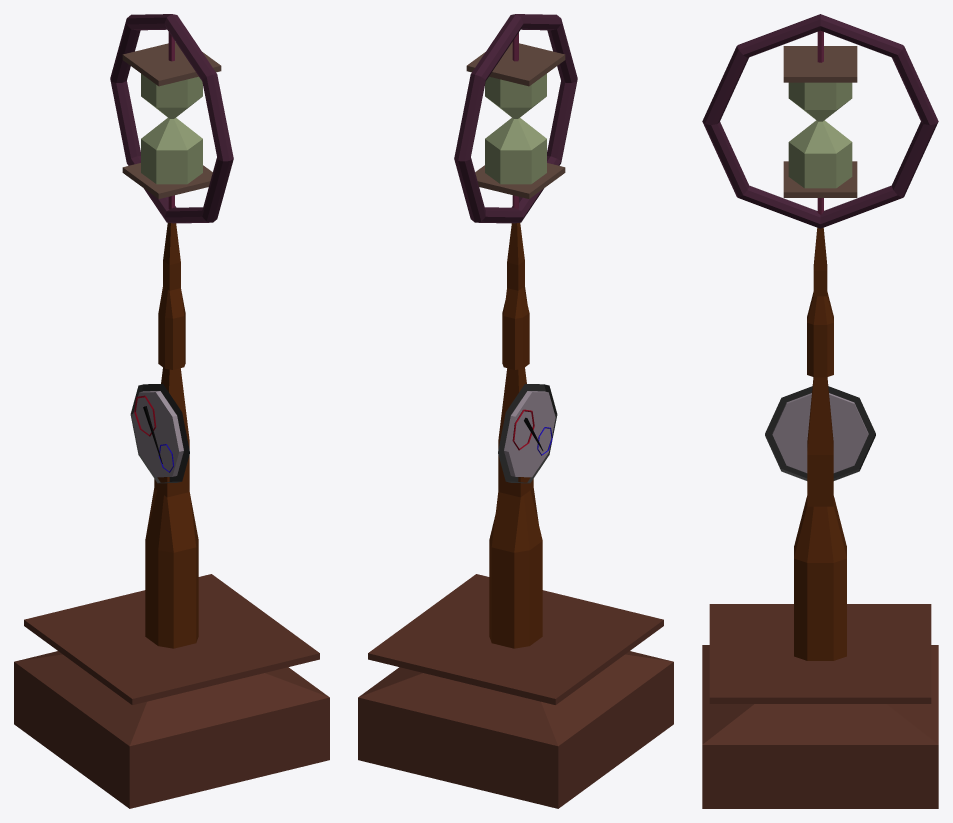
The model's file is TIme_Monument1.fbx.
3 views of the same model, side by side, from view 1: azimuth 30°, elevation 25°; view 2: azimuth 150°, elevation 25°; view 3: azimuth 270°, elevation 25° (orthographic). The views are drawn at different scales.
Parts seen in each view (by area): view 1: Cube.065, Cube.064, Torus, Cylinder.016, Cube.066, Circle.004, Cube.053, Cube.052, Circle.003; view 2: Cube.065, Cube.064, Torus, Cylinder.016, Circle.004, Cube.066, Cube.053, Cube.052, Circle.003; view 3: Cube.065, Cube.064, Torus, Cylinder.016, Circle.004, Cube.066, Cube.053, Circle.003, Cube.052.
Part boxes in pixels (left/top/right/bottom): Cube.065: left=14, top=574, right=329, bottom=808; Cube.064: left=145, top=367, right=198, bottom=648; Torus: left=110, top=14, right=233, bottom=223; Cylinder.016: left=141, top=73, right=202, bottom=184; Cube.066: left=158, top=223, right=185, bottom=369; Circle.004: left=132, top=391, right=183, bottom=477; Cube.053: left=122, top=41, right=221, bottom=86; Cube.052: left=122, top=163, right=212, bottom=198; Circle.003: left=130, top=384, right=189, bottom=483; Cube.065: left=358, top=574, right=673, bottom=808; Cube.064: left=489, top=367, right=542, bottom=648; Torus: left=454, top=14, right=577, bottom=223; Cylinder.016: left=485, top=73, right=546, bottom=184; Circle.004: left=504, top=391, right=555, bottom=477; Cube.066: left=502, top=223, right=529, bottom=369; Cube.053: left=466, top=42, right=565, bottom=86; Cube.052: left=475, top=163, right=565, bottom=198; Circle.003: left=498, top=384, right=557, bottom=483; Cube.065: left=702, top=604, right=938, bottom=808; Cube.064: left=794, top=377, right=846, bottom=660; Torus: left=702, top=14, right=938, bottom=228; Cylinder.016: left=788, top=82, right=852, bottom=188; Circle.004: left=772, top=393, right=868, bottom=472; Cube.066: left=807, top=228, right=833, bottom=377; Cube.053: left=783, top=46, right=857, bottom=82; Circle.003: left=765, top=386, right=875, bottom=480; Cube.052: left=783, top=161, right=857, bottom=197.
Bounding box in the file's own units: 160 × 556 × 160.
